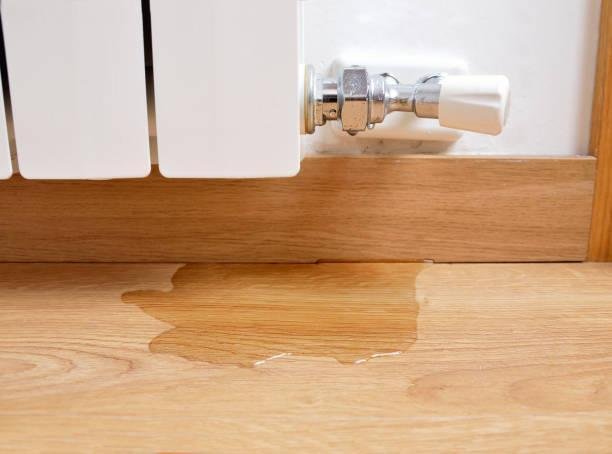water accumulation: (120, 260, 435, 370)
